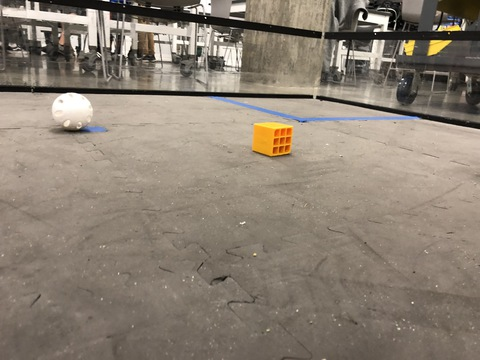ball: (48, 89, 101, 137)
block: (240, 115, 299, 163)
